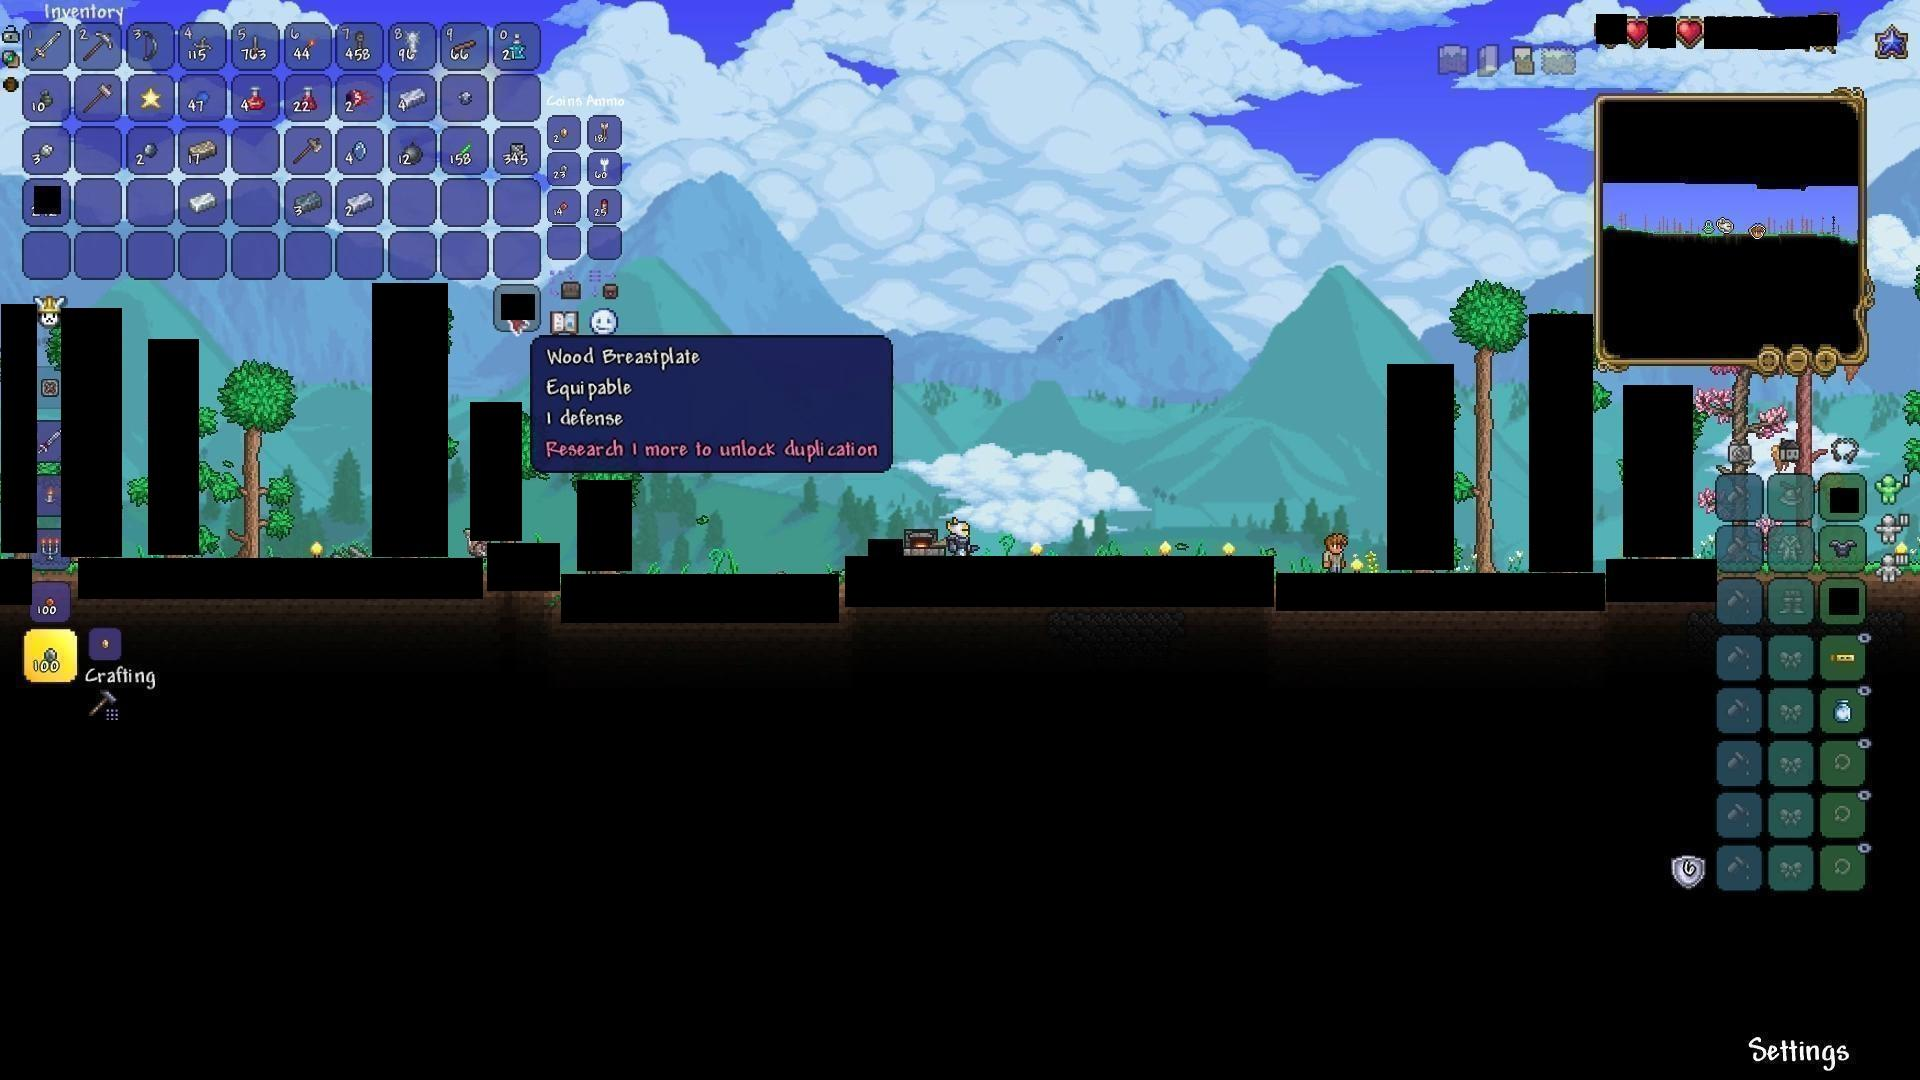breastplate: (1828, 539, 1859, 559)
heart: (1676, 17, 1704, 47), (1625, 16, 1651, 46)
tree: (1451, 269, 1507, 572), (224, 345, 298, 554)
